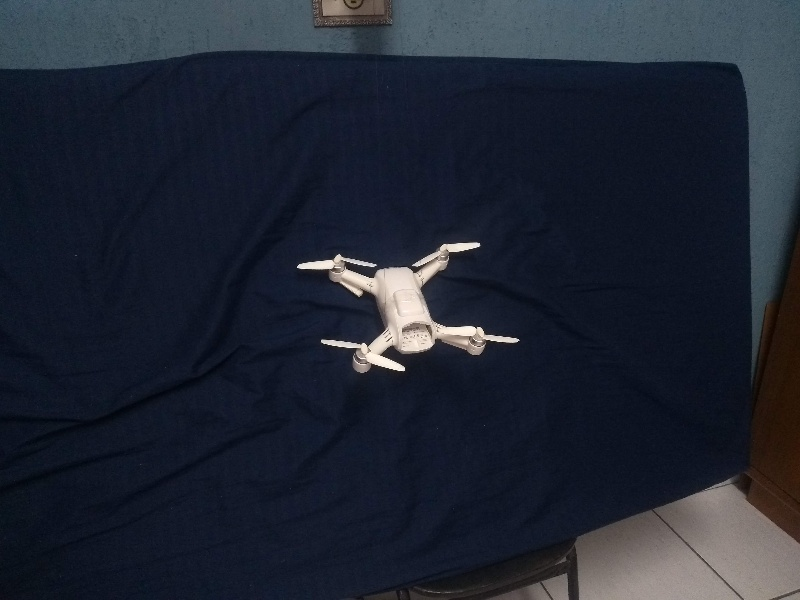drone: (293, 235, 525, 371)
